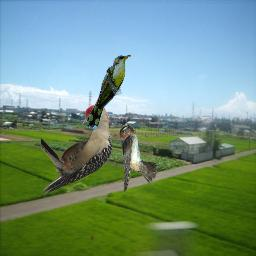Cuckoo: (86, 55, 131, 129)
Swallow: (119, 125, 157, 193)
Woodpecker: (41, 104, 112, 197)
